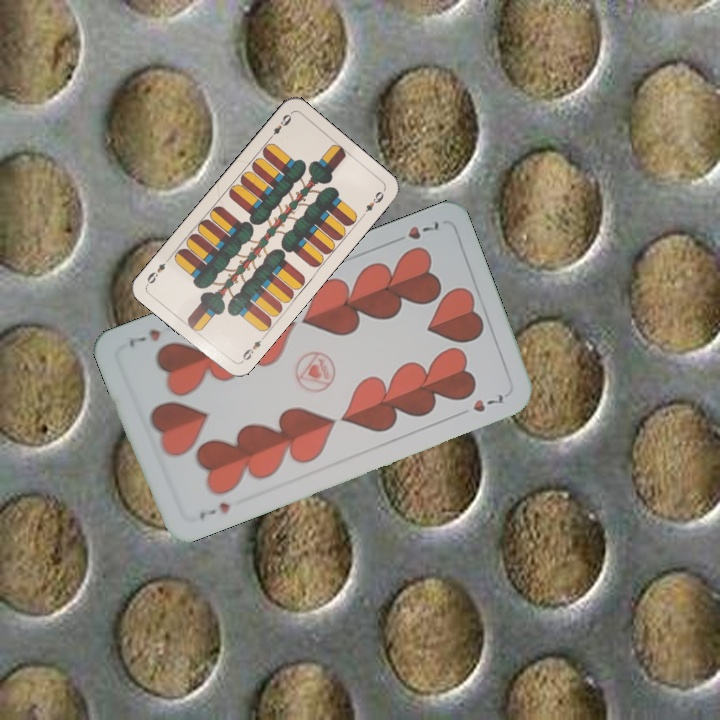E9: (236, 332, 267, 366), (264, 110, 294, 143)
H7: (387, 217, 442, 246), (195, 498, 232, 522)
